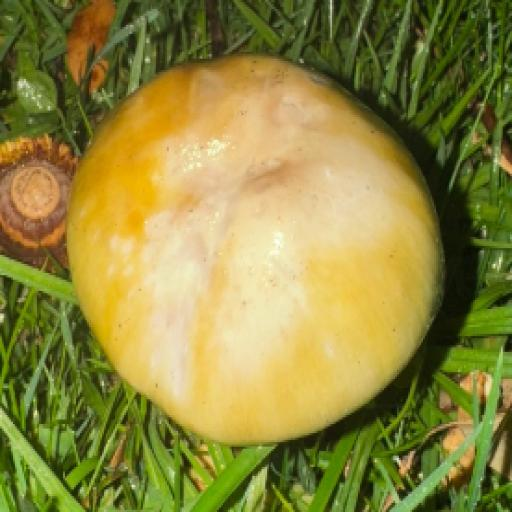mushroom: (0, 0, 510, 507)
